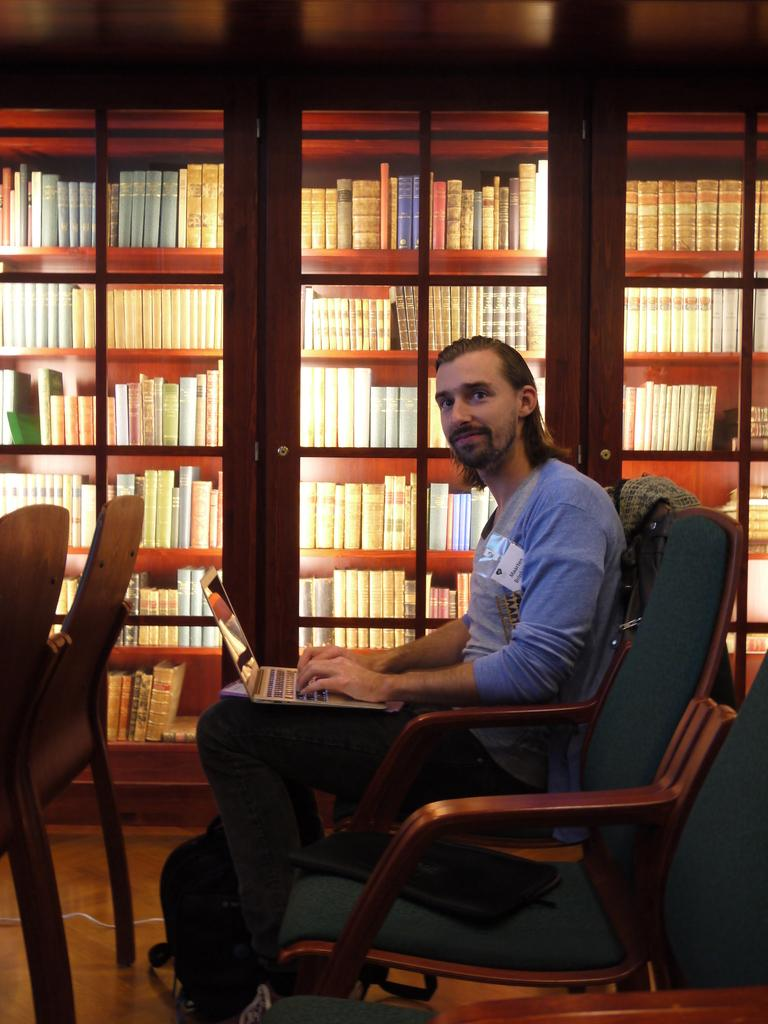Chair: (268, 503, 742, 1003), (0, 494, 144, 1022)
Laptop: (199, 565, 389, 711)
